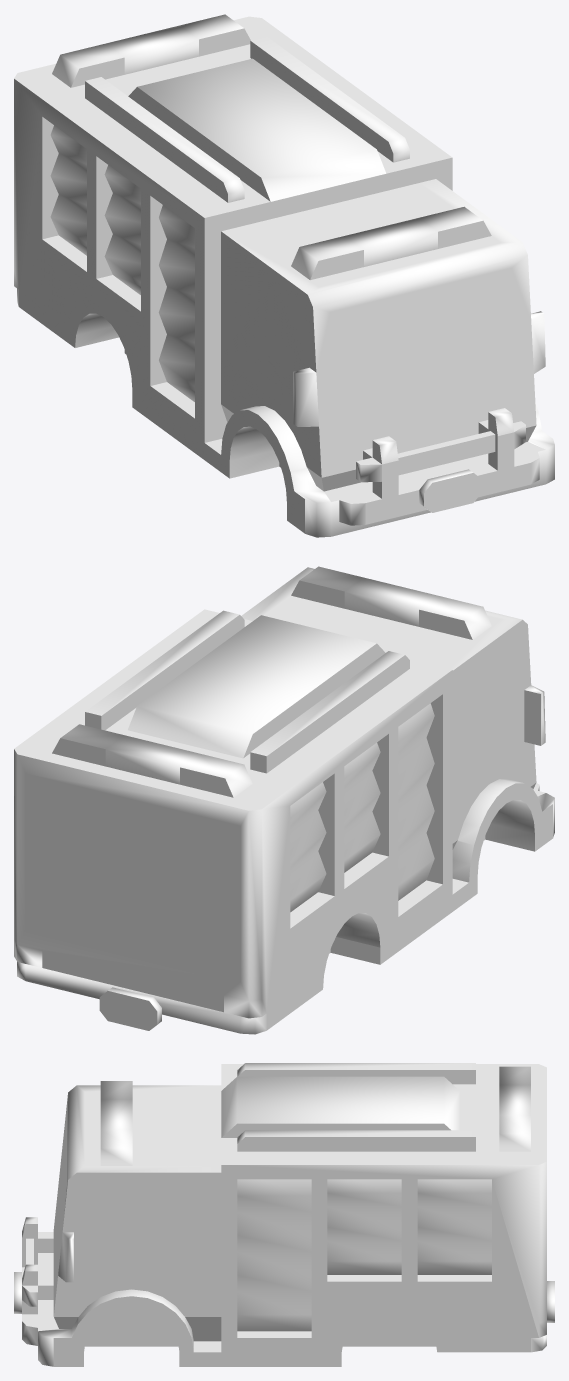
Rendered from firetruck-vehicle.glb.
3 renders of one model, top to bottom at view 1: azimuth 30°, elevation 25°; view 2: azimuth 150°, elevation 25°; view 3: azimuth 270°, elevation 25°, orthographic. The views are drawn at different scales.
Visible parts, largest first — view 1: firetruck-vehicle; view 2: firetruck-vehicle; view 3: firetruck-vehicle.
Boxes of the visible parts, x1=… form: firetruck-vehicle: x1=14, y1=14, x2=554, y2=537; firetruck-vehicle: x1=14, y1=566, x2=554, y2=1034; firetruck-vehicle: x1=14, y1=1063, x2=554, y2=1366.
Size of the model in its own units: 1.5 by 1.5 by 3.4.
1 material, 1 textured.
